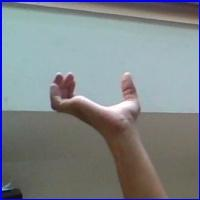B: (43, 66, 148, 129)
